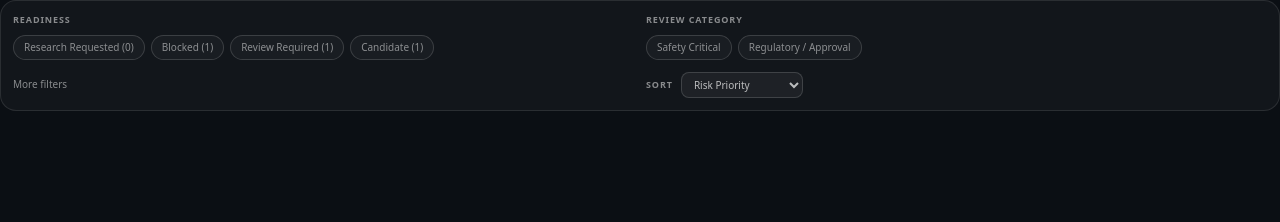
Test: FilterBar › clicking "More filters" reveals evidence tier chips
Click the button "More filters": [40, 84] box [13,72,634,98]
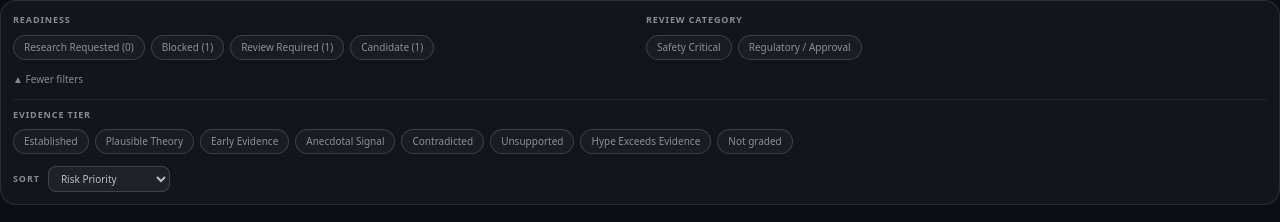
Expected: the button "Established" is shown, [13,129,89,154]
